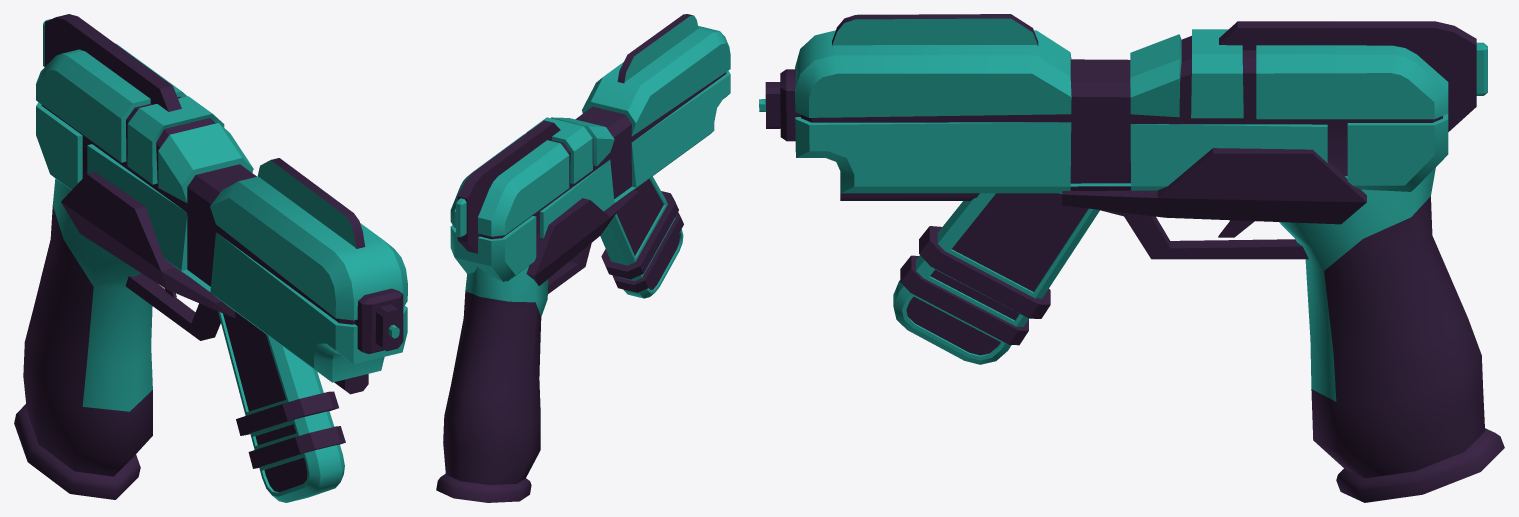
Rendered from toon_gun.fbx.
3 views of the same model, side by side, from view 1: azimuth 30°, elevation 25°; view 2: azimuth 150°, elevation 25°; view 3: azimuth 270°, elevation 25° (orthographic). The views are drawn at different scales.
Visible parts, largest first — view 1: Gun 12; view 2: Gun 12; view 3: Gun 12.
Part boxes in pixels (left/top/right/bottom): Gun 12: left=14, top=14, right=407, bottom=502; Gun 12: left=436, top=14, right=730, bottom=502; Gun 12: left=759, top=14, right=1504, bottom=502.
Size of the model in its own units: 22.35 by 95.73 by 136.
